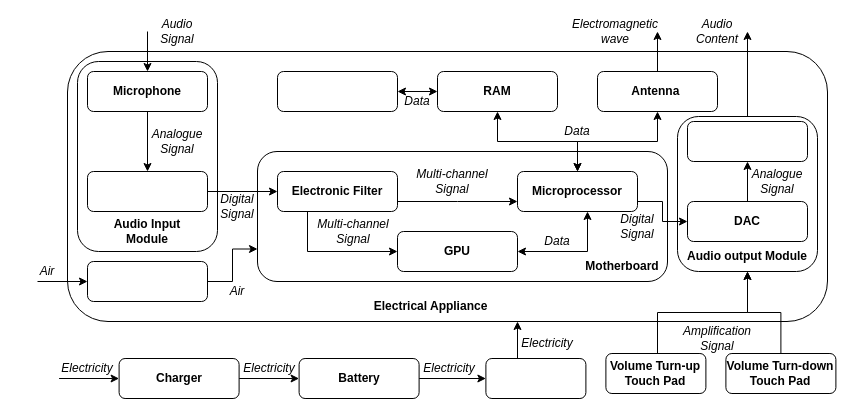
This 853x416 diagram has some shape labels left out. Each missing label, with the centre of its shape:
ADC: (147,191)
Fan: (147,281)
Hard Drive: (337,91)
Power Switch Touch Pad: (535,378)
Speaker: (747,141)
